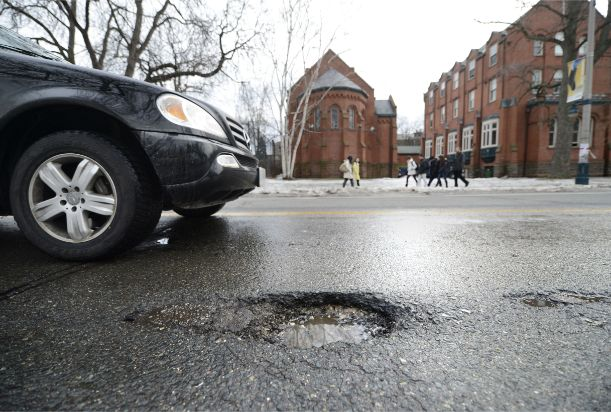pothole: (130, 282, 404, 353)
